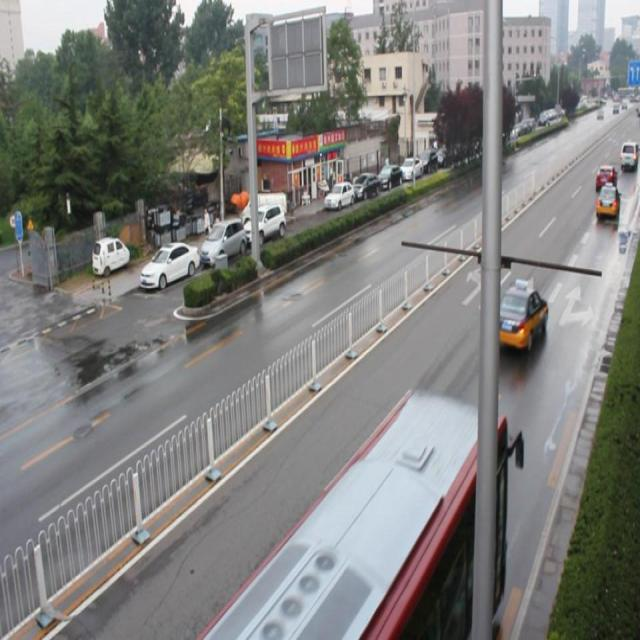car: (489, 274, 547, 347), (594, 182, 616, 223), (594, 166, 614, 191)
van: (194, 387, 522, 631)
